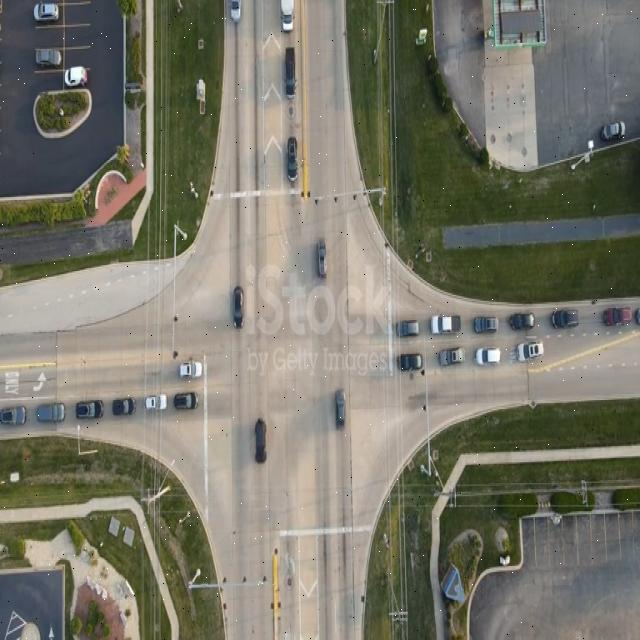car: (284, 48, 296, 100), (37, 404, 65, 424), (551, 310, 579, 330), (603, 307, 631, 327), (518, 342, 544, 362), (1, 408, 27, 428), (236, 288, 248, 330), (34, 2, 59, 22), (255, 419, 266, 464), (66, 66, 88, 88), (511, 313, 535, 332), (398, 354, 422, 373), (287, 138, 297, 183), (280, 0, 294, 32), (602, 122, 624, 142), (477, 348, 501, 366), (475, 316, 499, 334), (234, 286, 244, 328), (441, 349, 464, 367), (173, 393, 196, 411), (398, 320, 420, 338), (178, 361, 200, 379), (114, 401, 137, 418), (337, 389, 347, 427), (144, 394, 166, 410), (230, 0, 242, 22)
pickup-truck: (36, 49, 64, 70)
